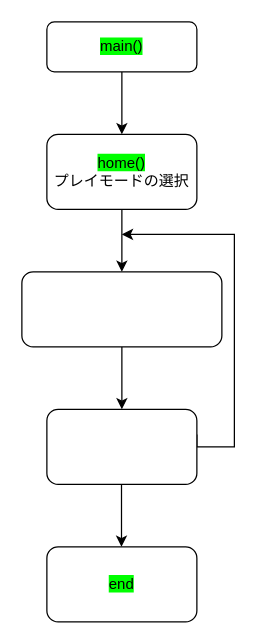
Some shapes in this 266 by 644 pixel diagram are drawn without their labels. The centre of each missing label's shape, as x and y in pixels:
game() スコアを加算していく: (x=121, y=309)
result(): (x=121, y=446)
